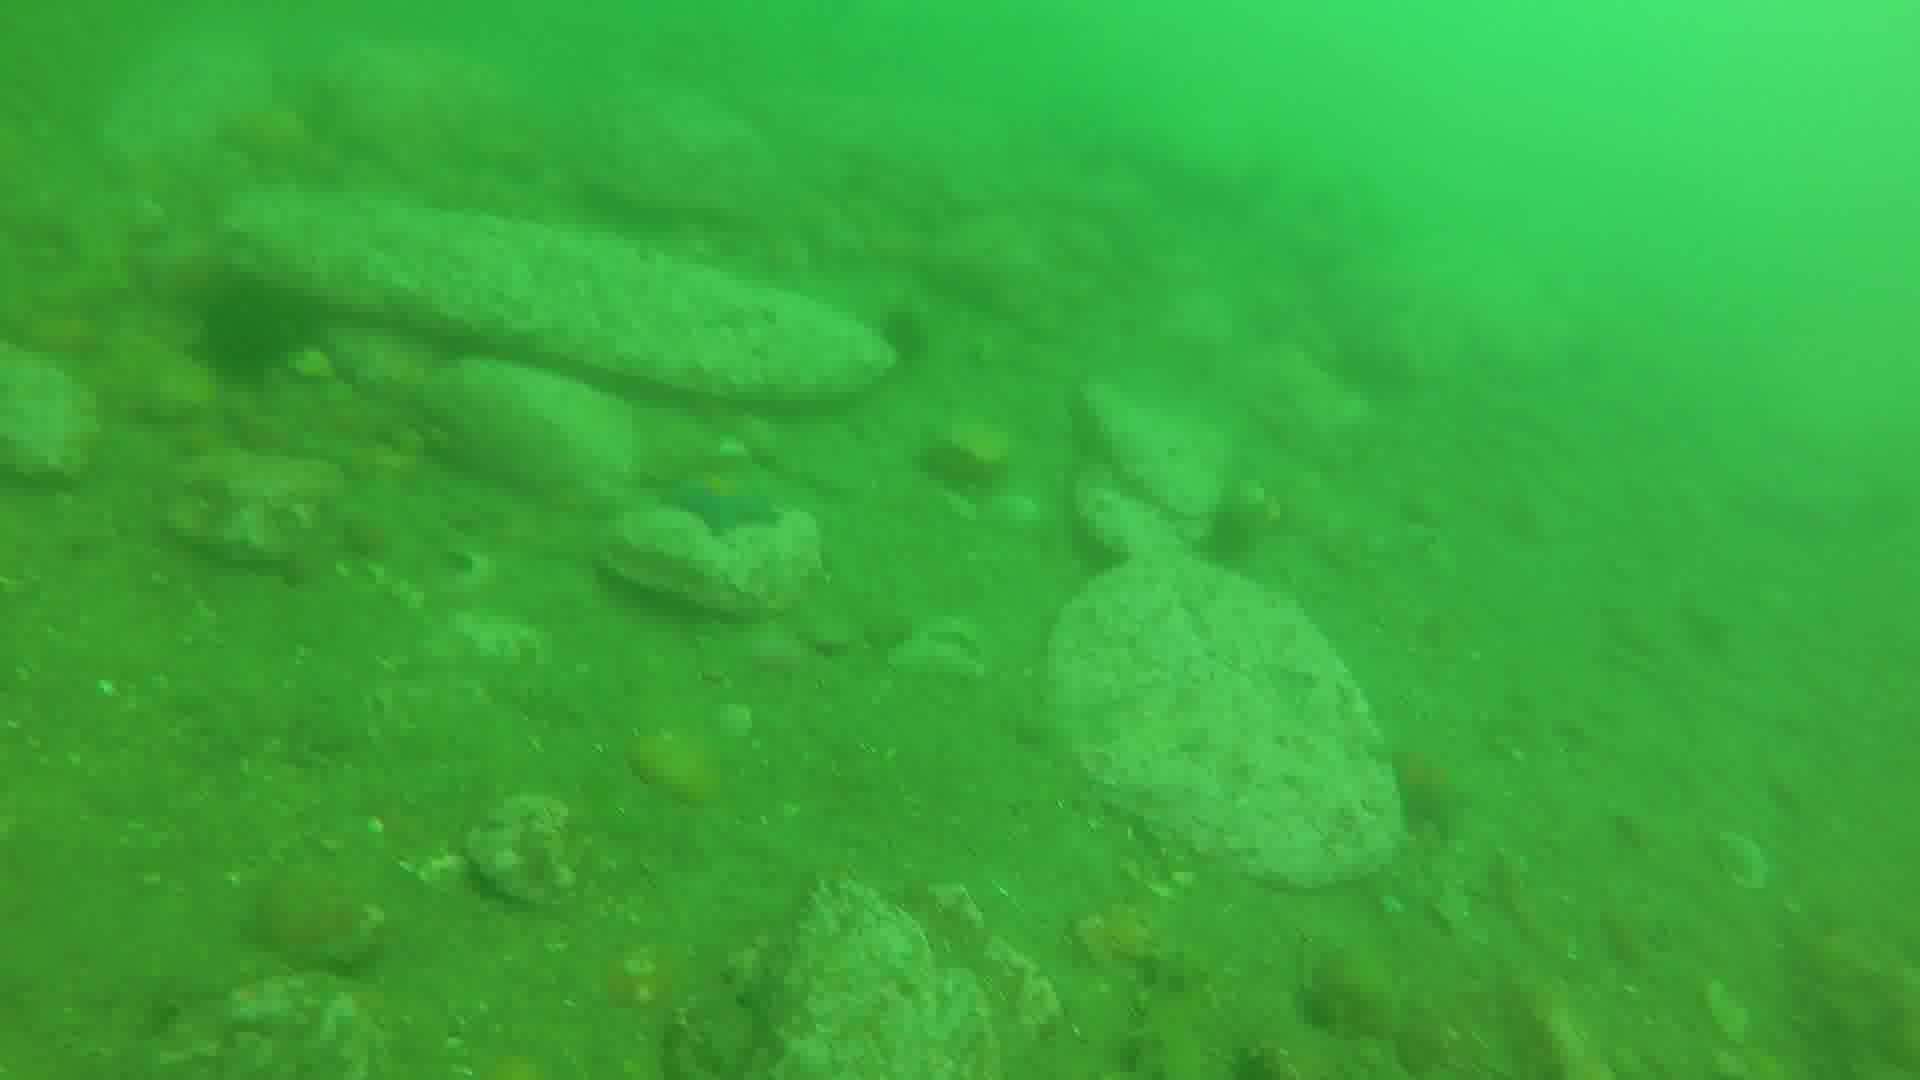echinus: (200, 301, 298, 385), (872, 295, 931, 365), (1199, 502, 1262, 564), (923, 444, 988, 496)
starfish: (659, 458, 787, 535), (1378, 746, 1473, 843)
